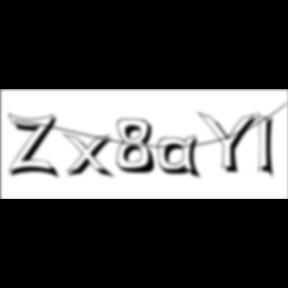8: (116, 117, 162, 176)
I: (257, 110, 281, 182)
Y: (197, 110, 264, 176)
Z: (8, 112, 62, 181)
a: (158, 135, 206, 182)
x: (64, 132, 118, 181)
